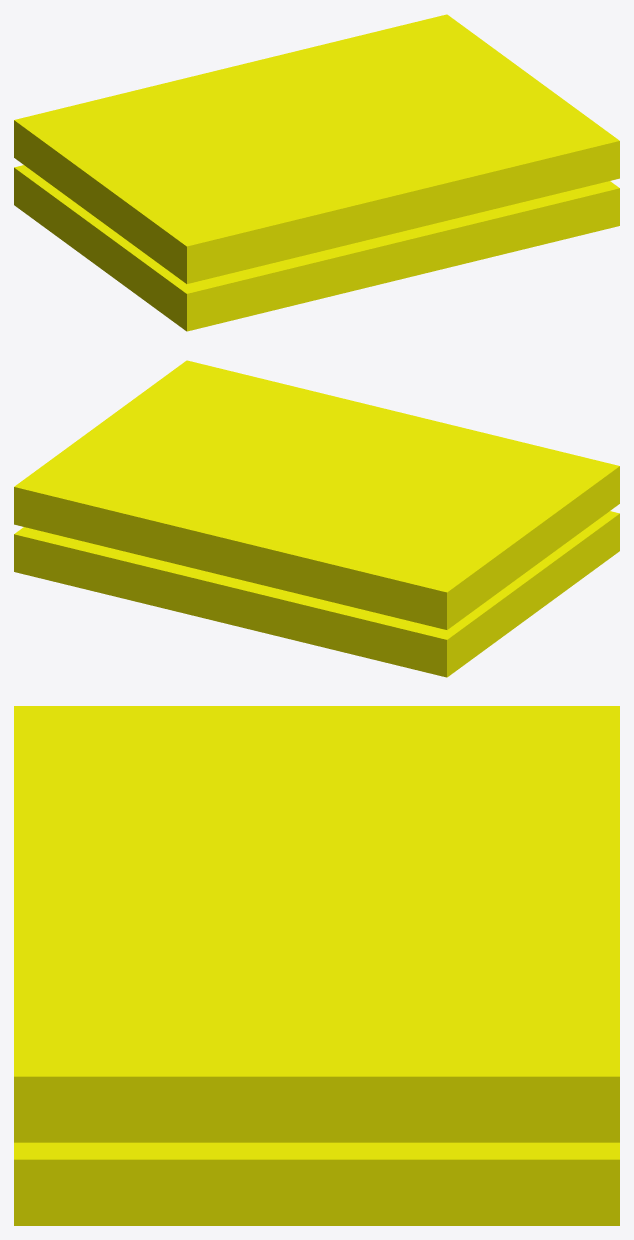
Rendered from Cash.gltf.
The picture shows the model from 3 angles, top to bottom: view 1: azimuth 30°, elevation 25°; view 2: azimuth 150°, elevation 25°; view 3: azimuth 270°, elevation 25°; orthographic projection. The views are drawn at different scales.
Visible parts, largest first — view 1: Cash; view 2: Cash; view 3: Cash.
Part boxes in pixels (left/top/right/bottom): Cash: left=14, top=14, right=619, bottom=331; Cash: left=14, top=360, right=619, bottom=677; Cash: left=14, top=706, right=619, bottom=1225.
Bounding box in the file's own units: 1.24 × 0.2423 × 0.8566.
Materials: 1 (1 with a texture image).
